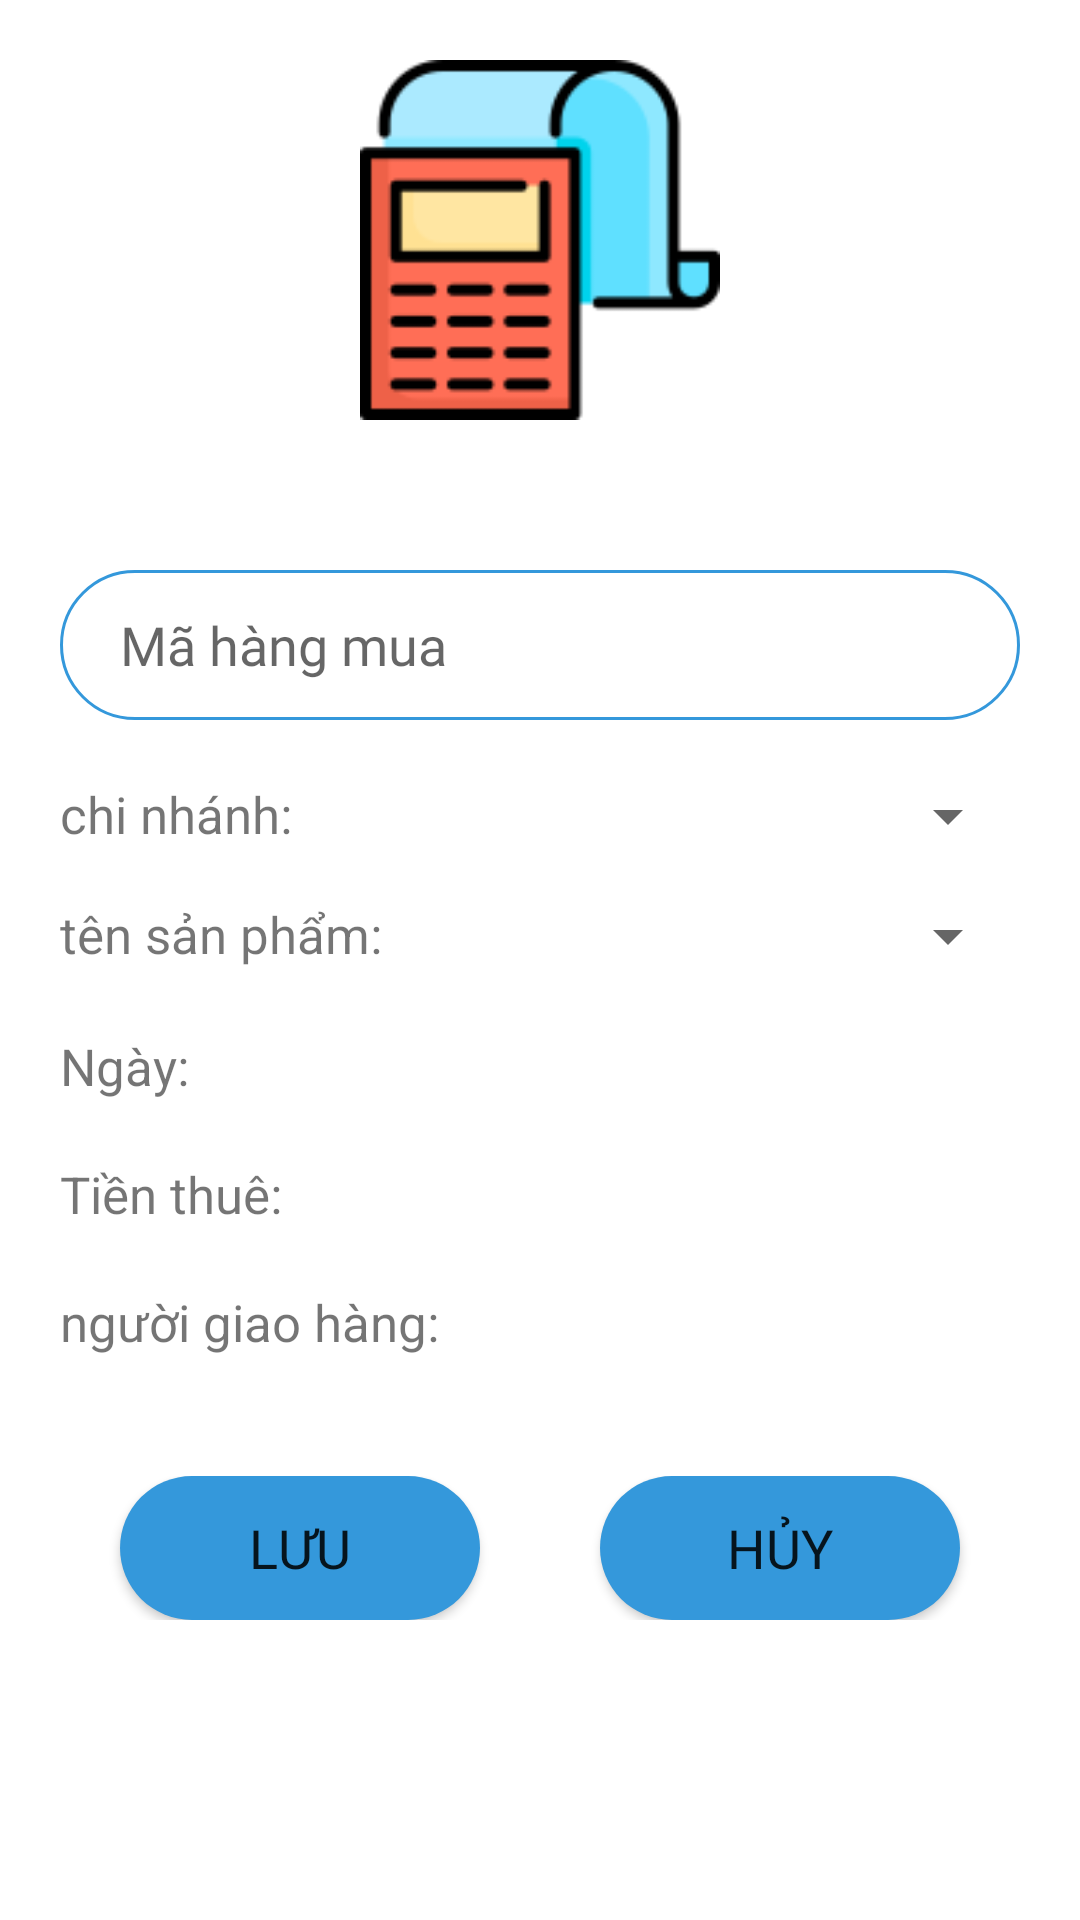

Where icons sit on this 1080x1920 app screen, as Rect(x1, y1, x2, y2):
receipt: Rect(360, 60, 720, 420)
